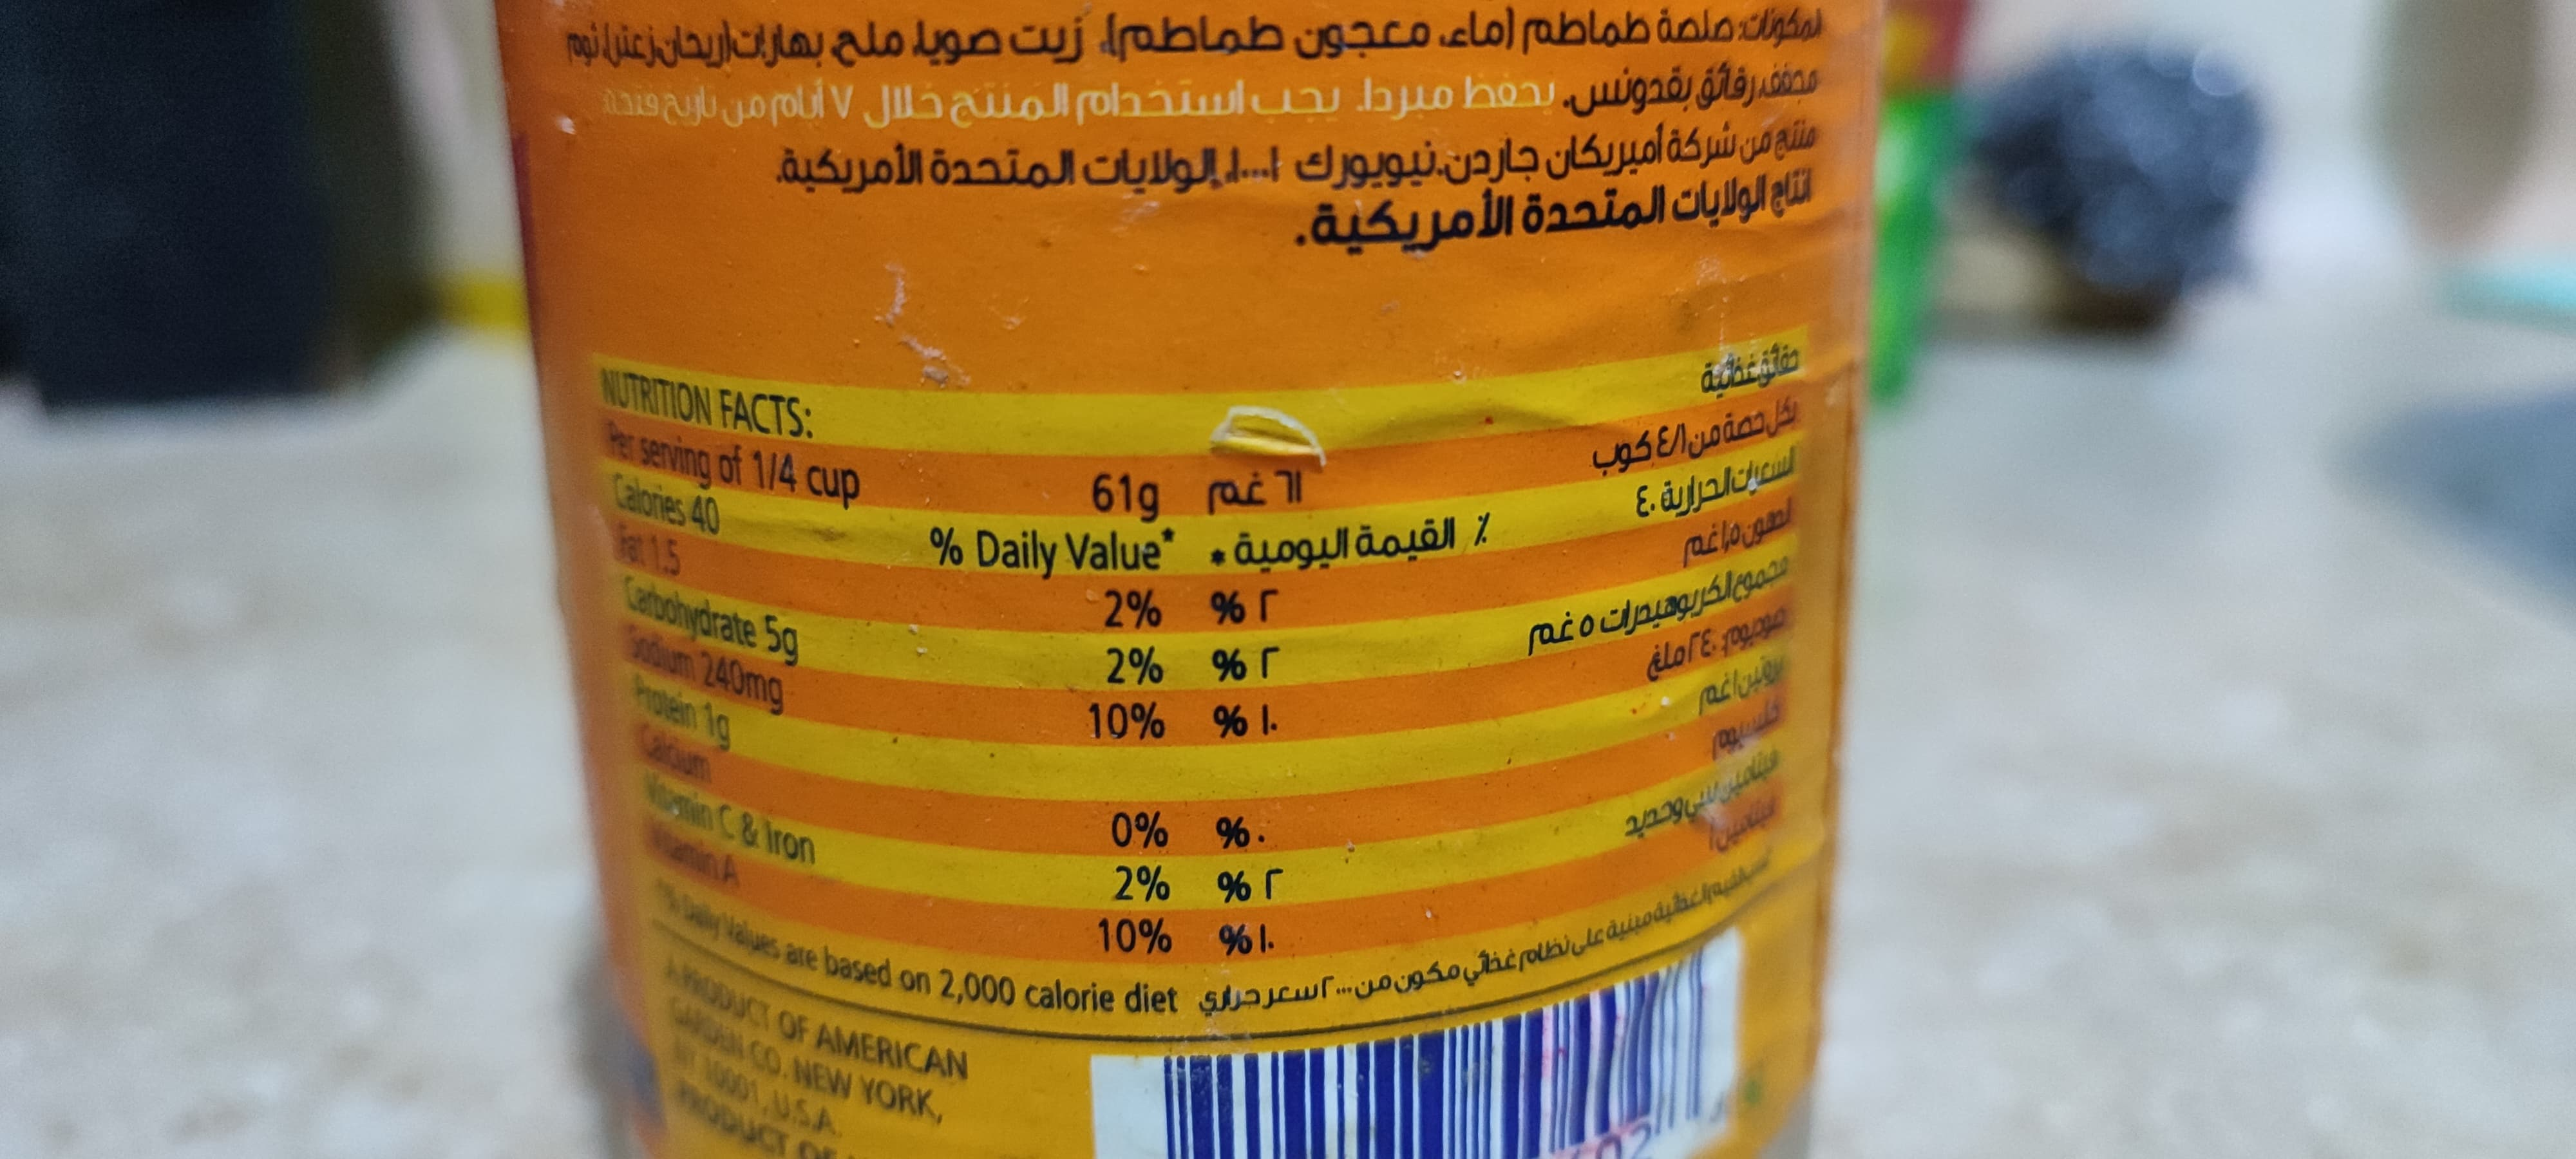table: (585, 312, 1840, 970)
